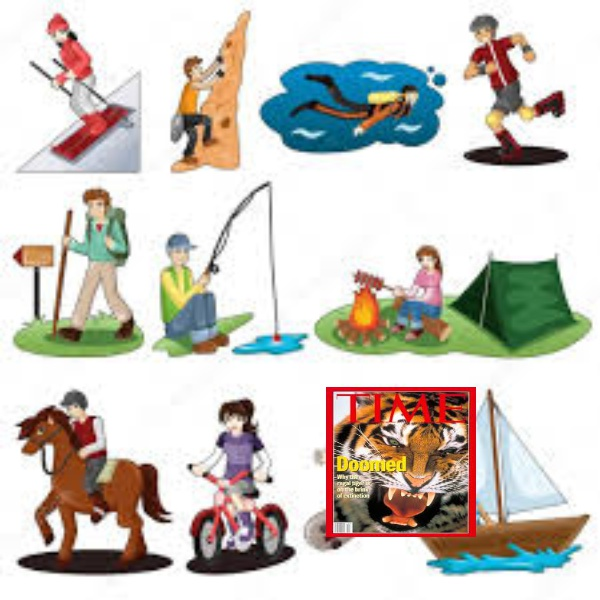time_cover: (322, 383, 478, 543)
